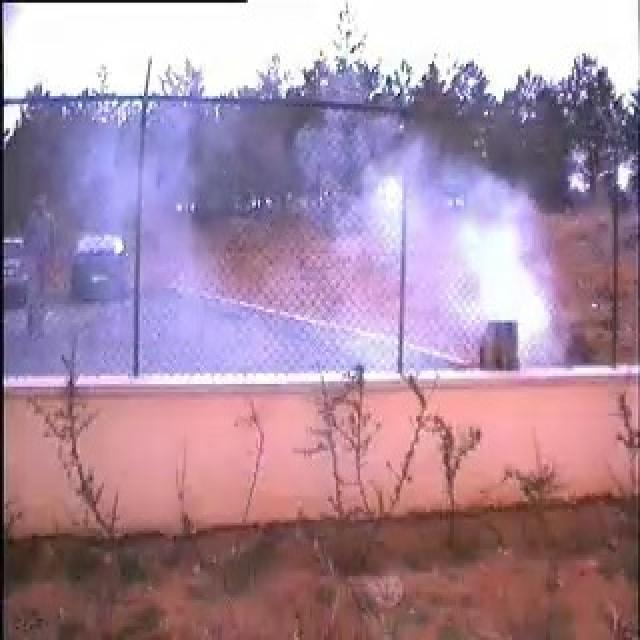Smoke: (95, 126, 550, 362)
